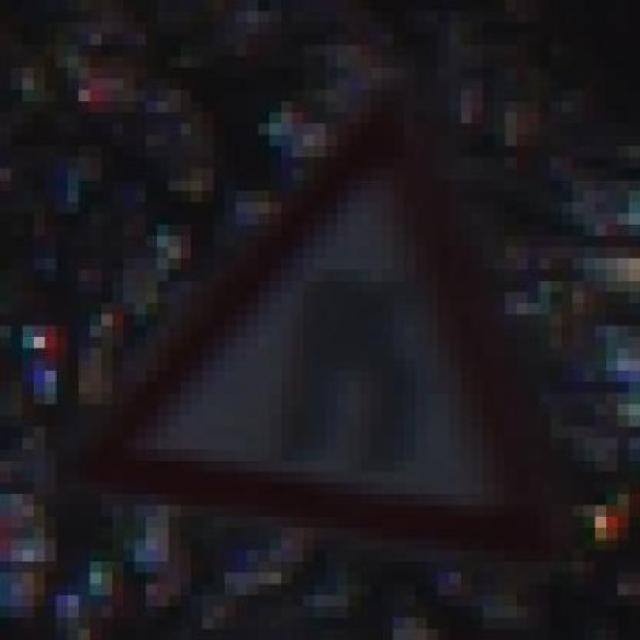-Road narrows on right: (79, 90, 596, 573)
